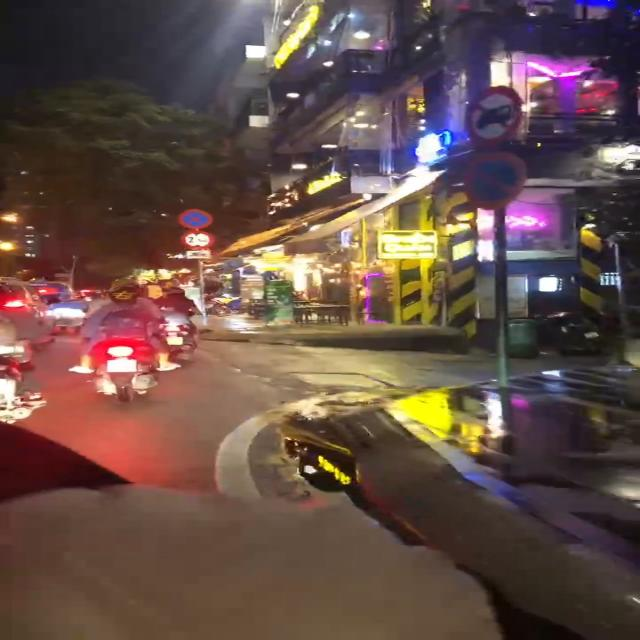Bien bao cam dung xe va do xe: (177, 208, 217, 230)
Bien bao han che chieu cao: (178, 229, 215, 250)
